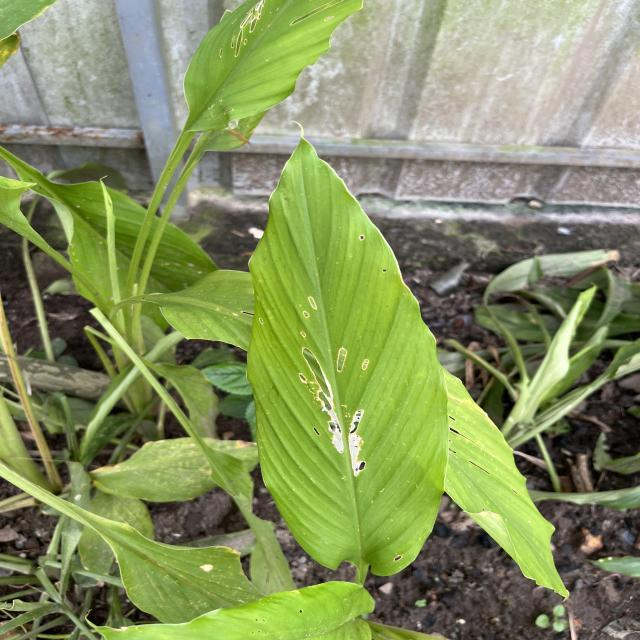Curcuma longa: (240, 113, 452, 580)
